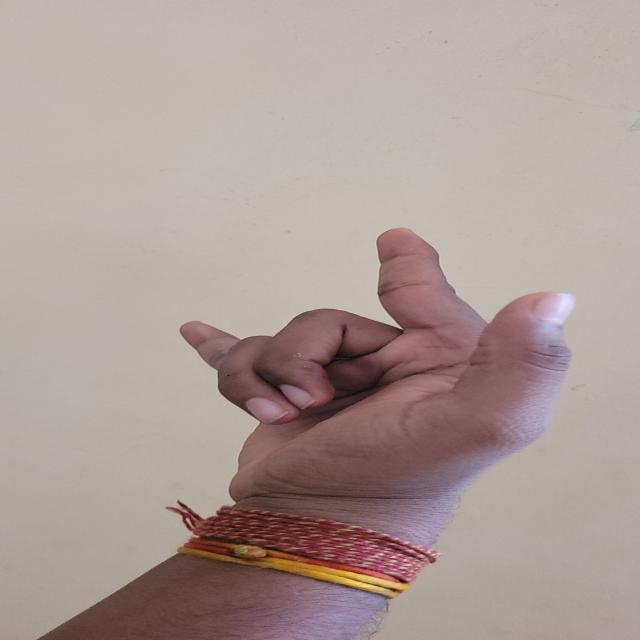i like you: (104, 227, 640, 539)
